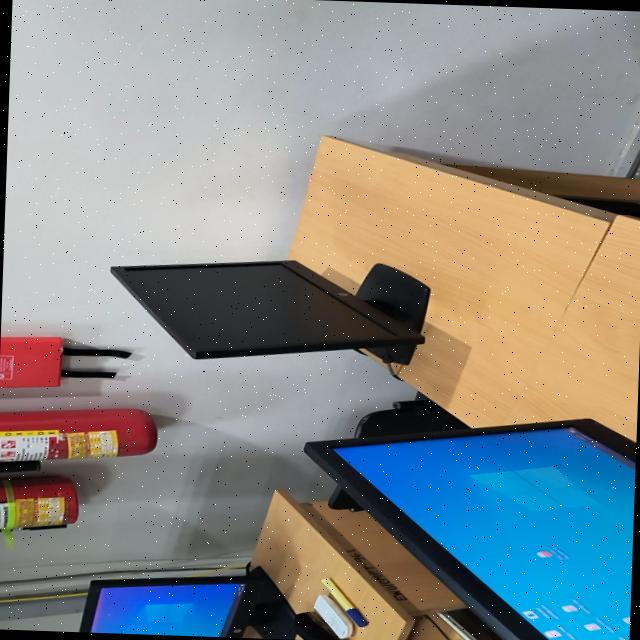Chair: (354, 398, 466, 436), (328, 490, 358, 510)
Cpu: (560, 196, 640, 219)
Fire Extinguisher: (0, 408, 156, 462), (0, 476, 77, 534)
Monitor: (110, 260, 425, 363), (78, 570, 295, 639)
